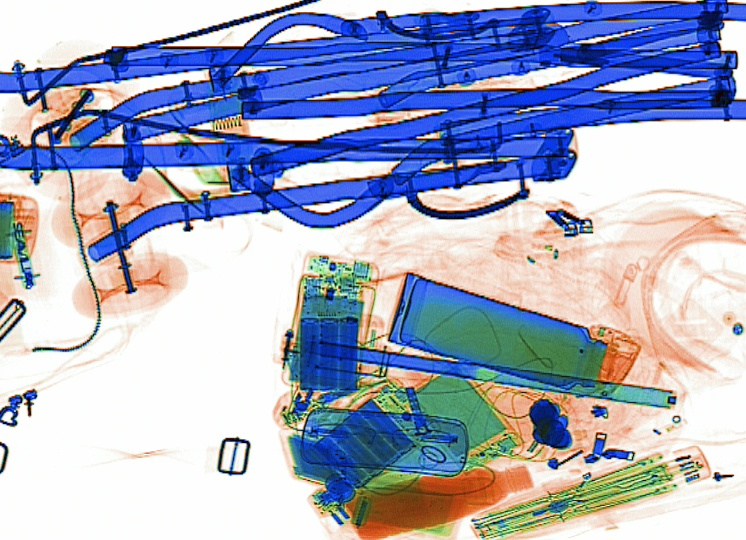powerbank: (312, 374, 445, 489), (295, 273, 363, 394)
